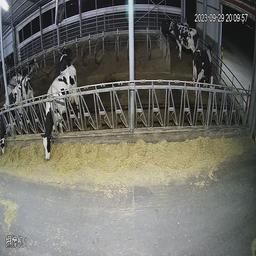cow: (35, 58, 85, 174), (1, 87, 27, 159), (191, 42, 219, 105), (166, 16, 200, 61), (53, 41, 72, 69)
